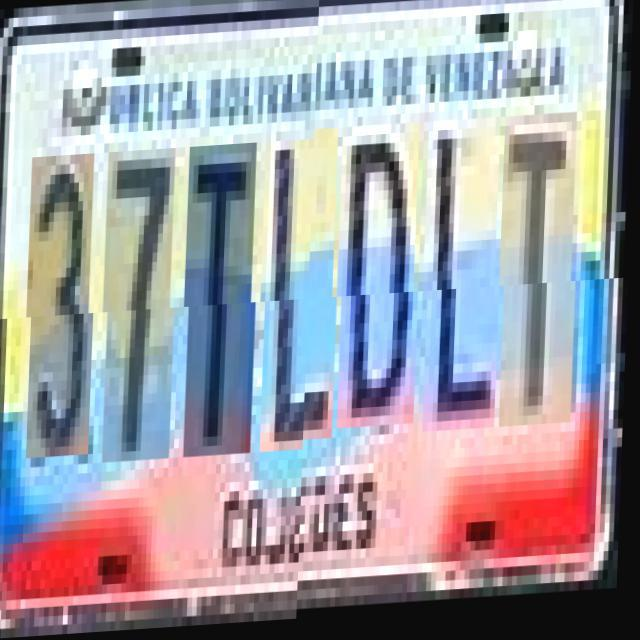3: (30, 154, 100, 458)
7: (106, 150, 182, 464)
D: (340, 138, 425, 442)
L: (264, 142, 344, 456), (426, 134, 506, 448)
T: (502, 130, 583, 443), (187, 146, 263, 460)
